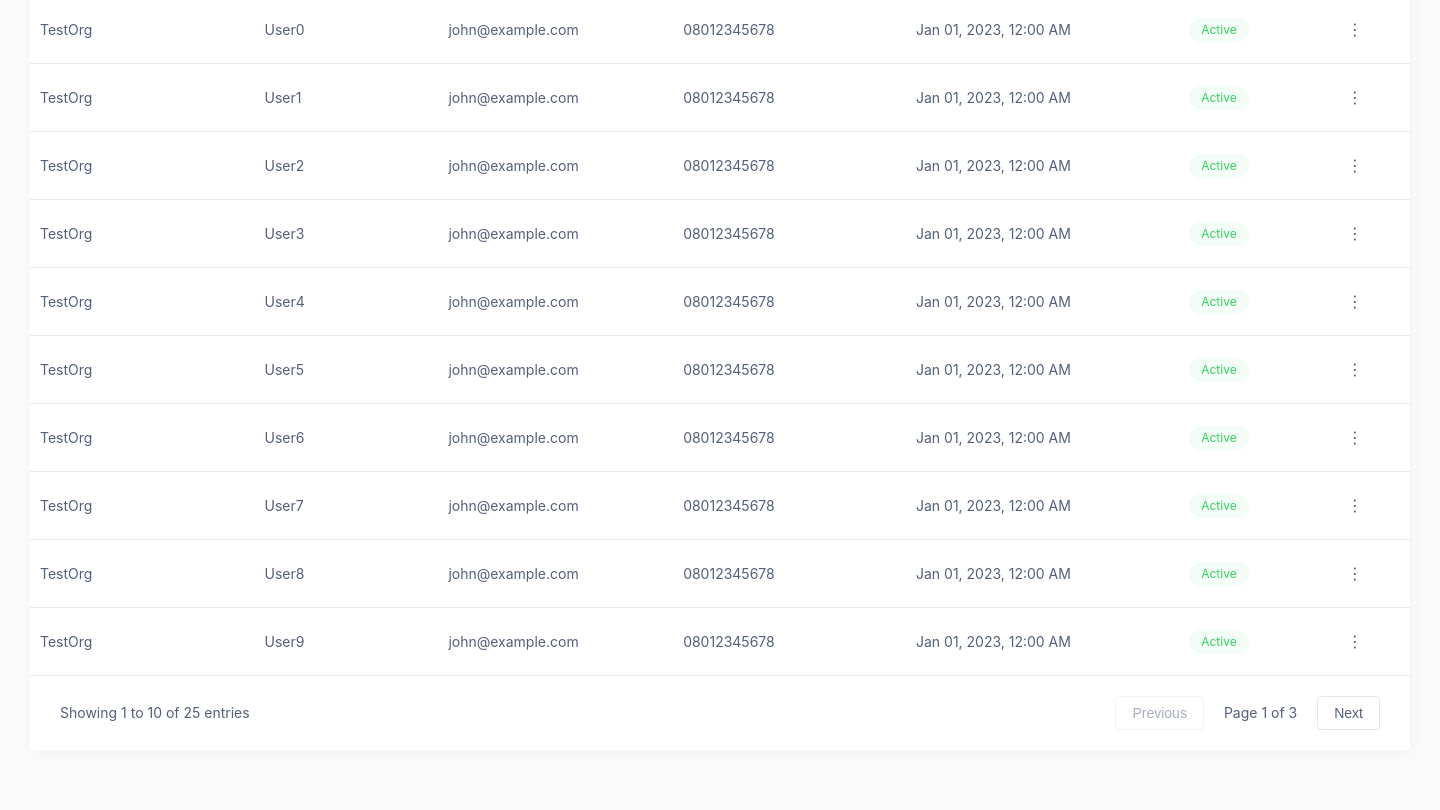
Test: Users Page › handles pagination controls
The width and height of the screenshot is (1440, 810).
(page scrolled)
Click the button with aria-label "next page". click: point(1349, 713)
box: left=1317, top=696, right=1380, bottom=730
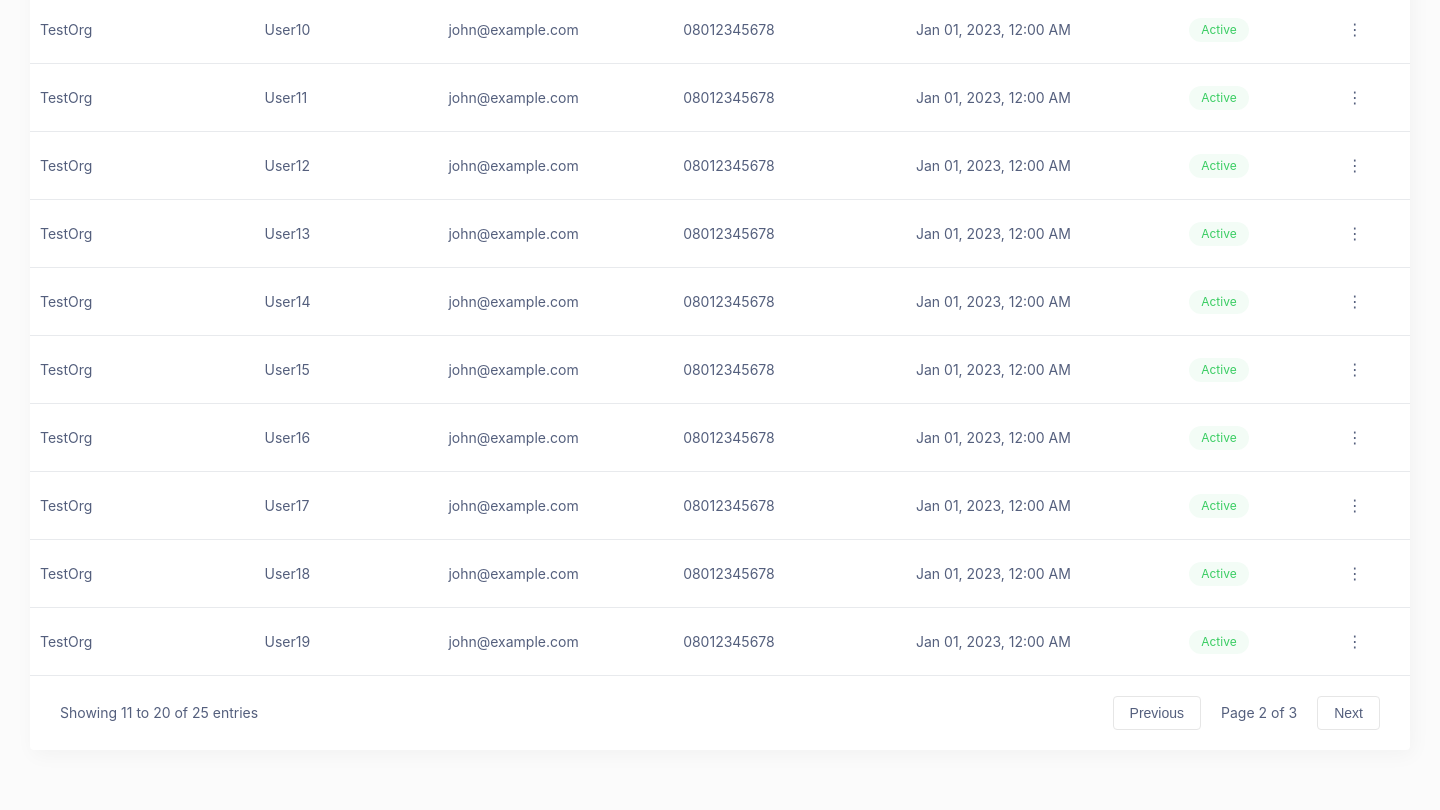
Check: the text "Page 2 of 3" is shown, box left=1221, top=706, right=1297, bottom=720
Click the button with aria-label "previous page". click: point(1157, 713)
box: left=1113, top=696, right=1201, bottom=730
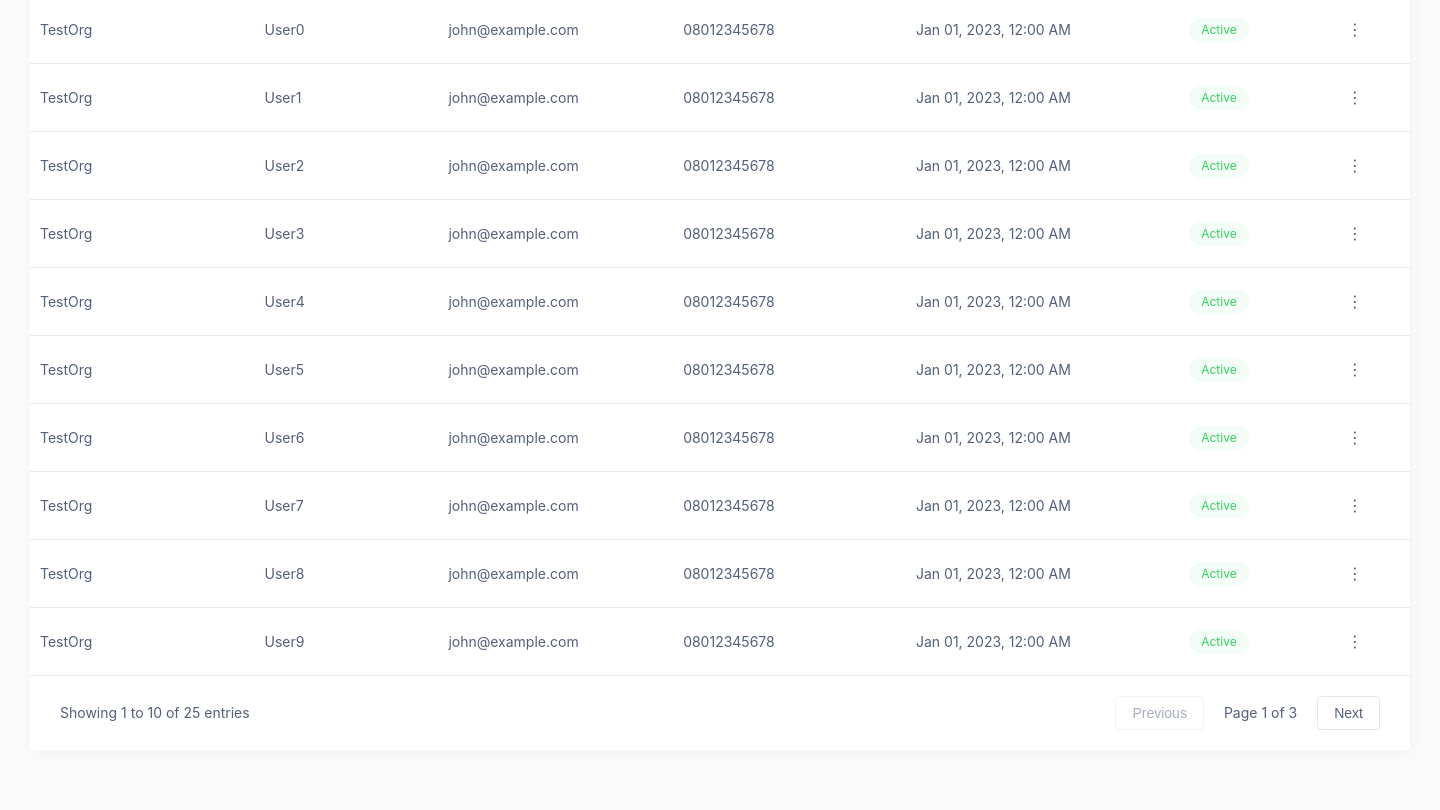
Check: the text "Page 1 of 3" is shown, box left=1224, top=706, right=1297, bottom=720
